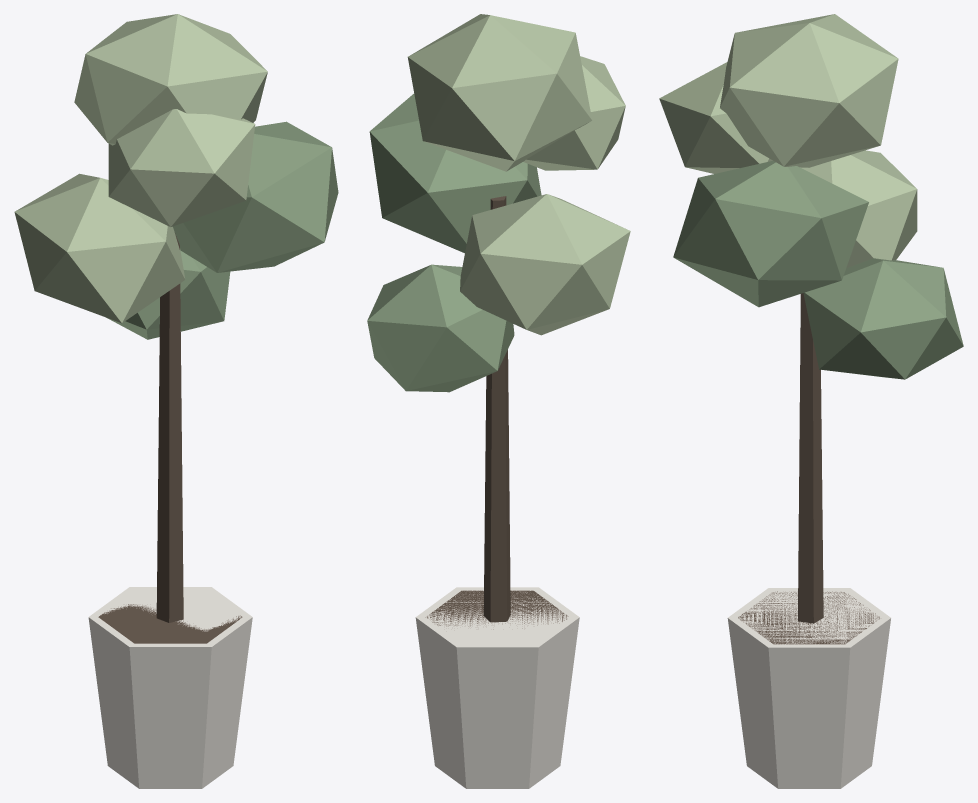
The model's file is plant_fig.glb.
3 renders of one model, left to right at view 1: azimuth 30°, elevation 25°; view 2: azimuth 150°, elevation 25°; view 3: azimuth 270°, elevation 25°, orthographic.
Visible parts, largest first — view 1: plant_fig; view 2: plant_fig; view 3: plant_fig.
Part boxes in pixels (x1,y1,x2,y2): plant_fig: (14, 14, 338, 788); plant_fig: (367, 14, 630, 788); plant_fig: (659, 14, 963, 788).
Size of the model in its own units: 0.6364 by 1.71 by 0.6333.
